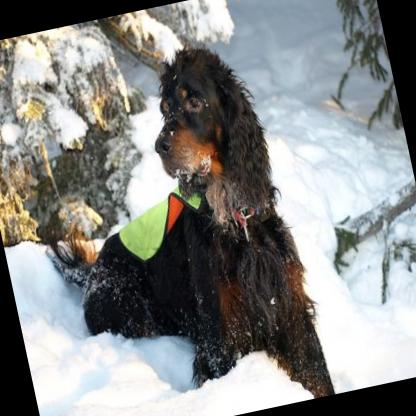Gordon_setter: (6, 27, 336, 416)
